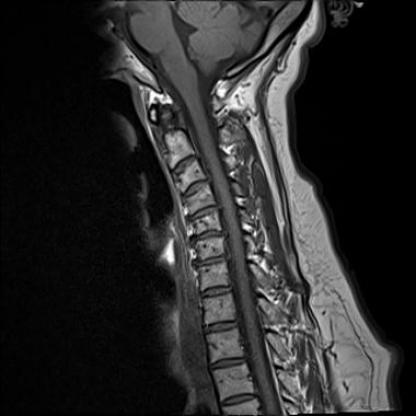Disc Protrusionrotation: (187, 206, 218, 222), (179, 181, 209, 197), (191, 228, 225, 242), (197, 254, 227, 269)
